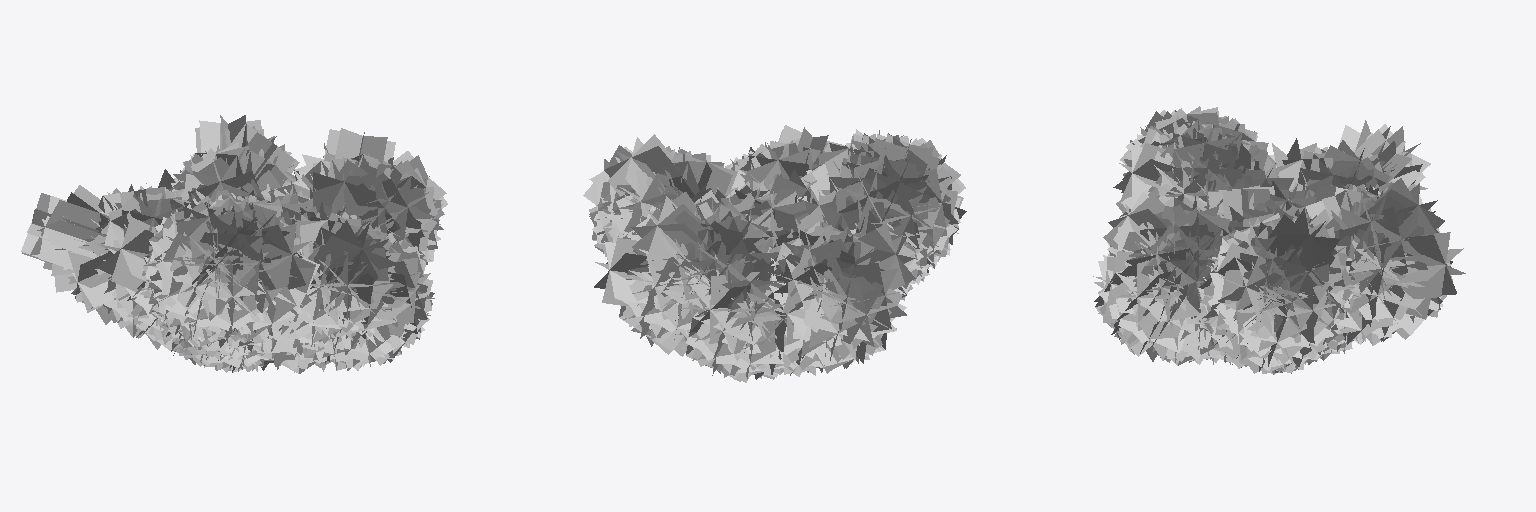
The model's file is Branch.obj.
The picture shows the model from 3 angles: view 1: azimuth 30°, elevation 25°; view 2: azimuth 150°, elevation 25°; view 3: azimuth 270°, elevation 25°; orthographic projection.
Visible parts, largest first — view 1: Eda2.144_平面.214, Eda2.146_平面.216, Eda2.104_平面.174, Eda2.108_平面.178, Eda2.145_平面.215, Eda2.156_平面.226, Eda2.123_平面.193, Eda.023_平面.250, Eda2.125_平面.195, Eda2.124_平面.194, Eda2.122_平面.192, 平面.002_平面.157 (+23 smaller); view 2: Eda2.164_平面.234, Eda2.143_平面.213, Eda2.160_平面.230, Eda2.175_平面.245, Eda2.156_平面.226, Eda2.119_平面.189, Eda2.145_平面.215, Eda2.174_平面.244, Eda.029_平面.256, Eda.033_平面.260, Eda2.154_平面.224, Eda.032_平面.259 (+24 smaller); view 3: Eda2.108_平面.178, Eda2.125_平面.195, Eda2.107_平面.177, Eda2.155_平面.225, Eda2.121_平面.191, Eda2.119_平面.189, Eda2.159_平面.229, Eda.033_平面.260, Eda2.105_平面.175, Eda2.139_平面.209, Eda.029_平面.256, Eda2.138_平面.208 (+24 smaller).
Part boxes in pixels (bbox=[...]): Eda2.144_平面.214: bbox=[176, 198, 280, 297]; Eda2.146_平面.216: bbox=[165, 248, 281, 342]; Eda2.104_平面.174: bbox=[313, 153, 405, 232]; Eda2.108_平面.178: bbox=[367, 160, 444, 261]; Eda2.145_平面.215: bbox=[143, 228, 228, 341]; Eda2.156_平面.226: bbox=[170, 142, 258, 201]; Eda2.123_平面.193: bbox=[307, 248, 400, 350]; Eda.023_平面.250: bbox=[30, 196, 109, 269]; Eda2.125_平面.195: bbox=[366, 246, 434, 365]; Eda2.124_平面.194: bbox=[302, 289, 414, 370]; Eda2.122_平面.192: bbox=[281, 254, 381, 356]; 平面.002_平面.157: bbox=[97, 217, 155, 291]; Eda2.164_平面.234: bbox=[678, 292, 783, 382]; Eda2.143_平面.213: bbox=[837, 142, 950, 248]; Eda2.160_平面.230: bbox=[619, 254, 706, 354]; Eda2.175_平面.245: bbox=[762, 227, 855, 344]; Eda2.156_平面.226: bbox=[680, 202, 775, 298]; Eda2.119_平面.189: bbox=[731, 139, 827, 190]; Eda2.145_平面.215: bbox=[887, 164, 960, 268]; Eda2.174_平面.244: bbox=[769, 221, 884, 302]; Eda.029_平面.256: bbox=[605, 134, 695, 196]; Eda.033_平面.260: bbox=[594, 238, 681, 305]; Eda2.154_平面.224: bbox=[606, 170, 678, 242]; Eda.032_平面.259: bbox=[630, 196, 716, 286]; Eda2.108_平面.178: bbox=[1198, 243, 1290, 360]; Eda2.125_平面.195: bbox=[1094, 257, 1189, 360]; Eda2.107_平面.177: bbox=[1243, 274, 1345, 373]; Eda2.155_平面.225: bbox=[1339, 193, 1438, 298]; Eda2.121_平面.191: bbox=[1118, 231, 1213, 349]; Eda2.119_平面.189: bbox=[1127, 196, 1229, 287]; Eda2.159_平面.229: bbox=[1337, 262, 1414, 345]; Eda.033_平面.260: bbox=[1383, 232, 1465, 298]; Eda2.105_平面.175: bbox=[1240, 236, 1344, 334]; Eda2.139_平面.209: bbox=[1154, 121, 1250, 191]; Eda.029_平面.256: bbox=[1267, 208, 1339, 276]; Eda2.138_平面.208: bbox=[1148, 145, 1242, 214].
Size of the model in its own units: 12.32 by 6.79 by 11.05.